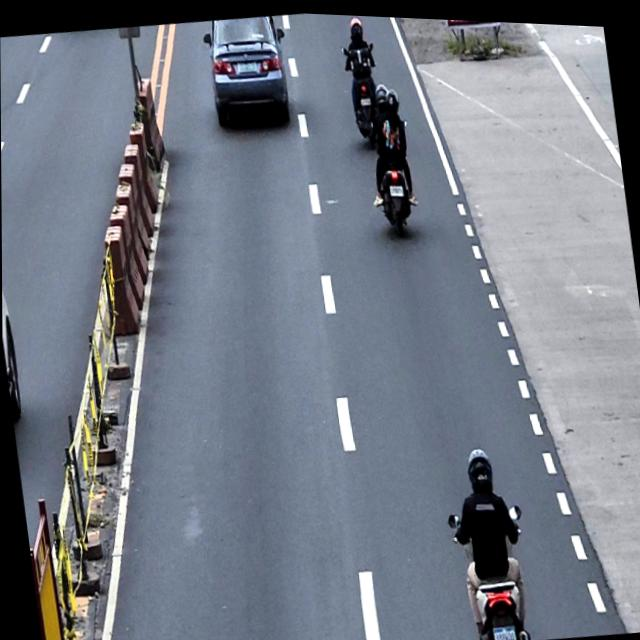Car: (200, 9, 297, 135)
License-Plate: (491, 619, 517, 640), (236, 57, 258, 72), (388, 180, 403, 195), (358, 93, 371, 103)
Motorcycle: (445, 495, 537, 640), (367, 110, 420, 227), (339, 35, 386, 134)
